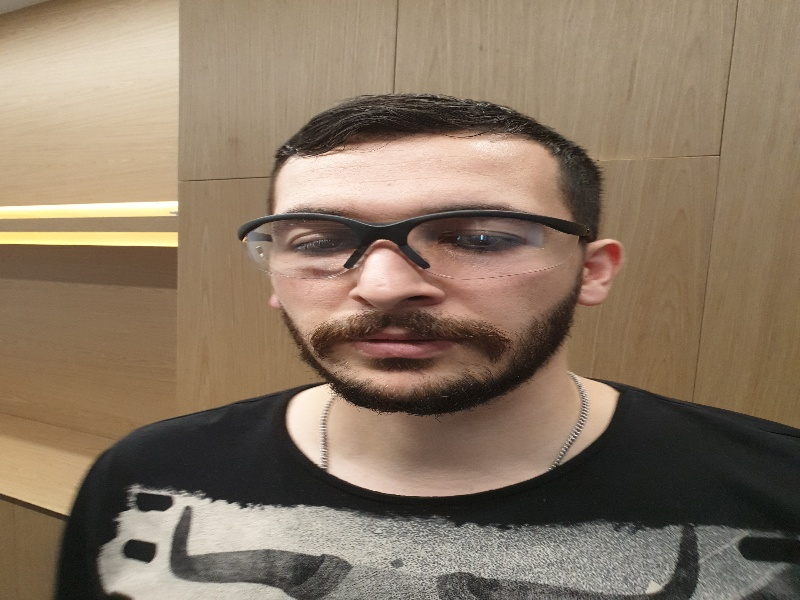Gozluk: (236, 206, 596, 271)
